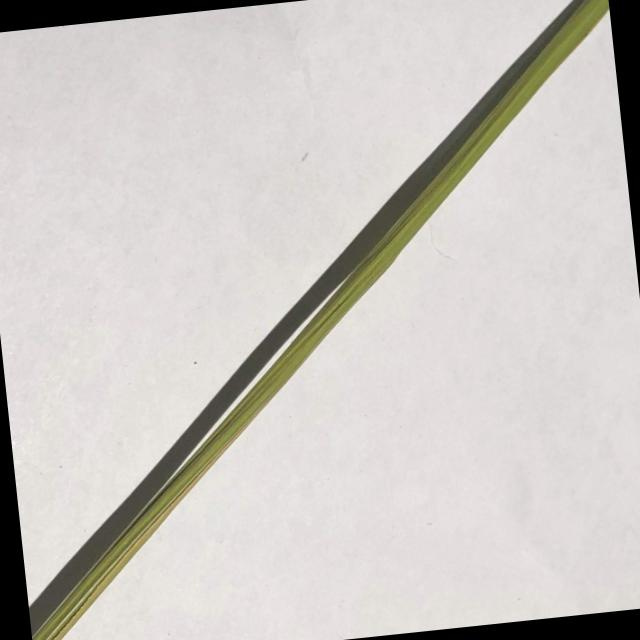Rice_Healthy: (32, 0, 609, 640)
